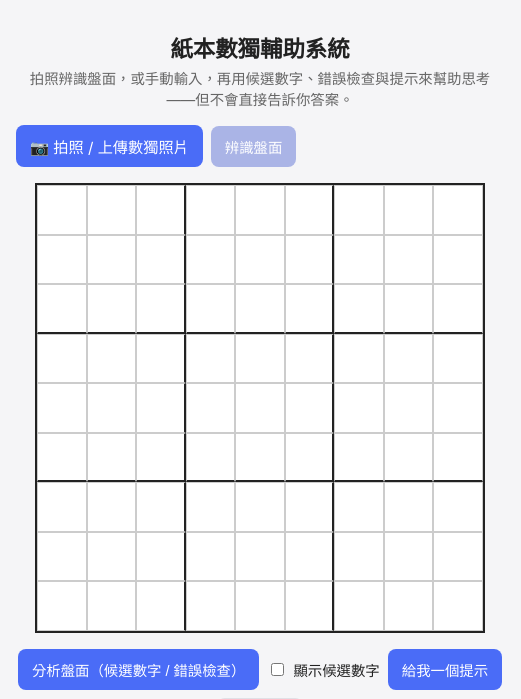
Test case: App › clears the board and analysis state when clear is clicked
Later steps or results of the test are not shown.
In the 1st field with class "cell-input": (62, 210) top-left (38, 186), bottom-right (86, 234), type "5"
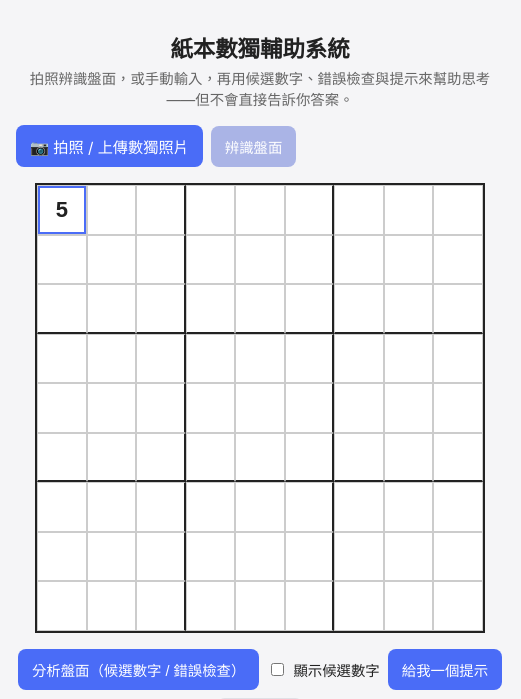
Click the button "分析盤面（候選數字 / 錯誤檢查）": (139, 670) top-left (18, 649), bottom-right (259, 690)
(page scrolled)
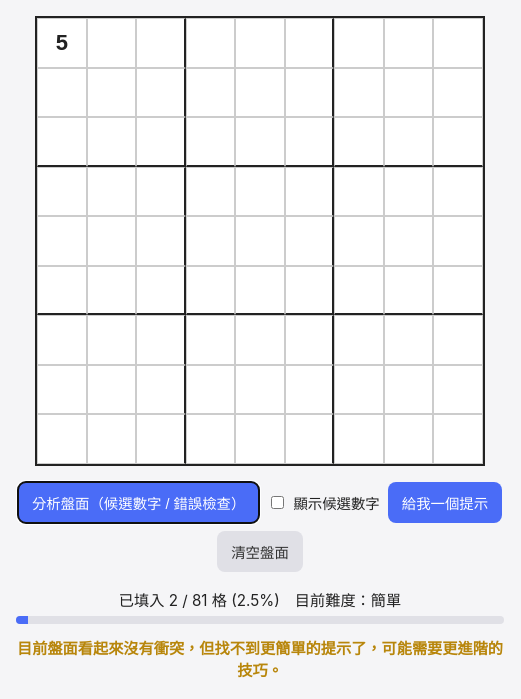
Result: the text "目前盤面看起來沒有衝突，但找不到更簡單的提示了，可能需要更進階的技巧。" is shown at top-left (16, 636), bottom-right (504, 680)
